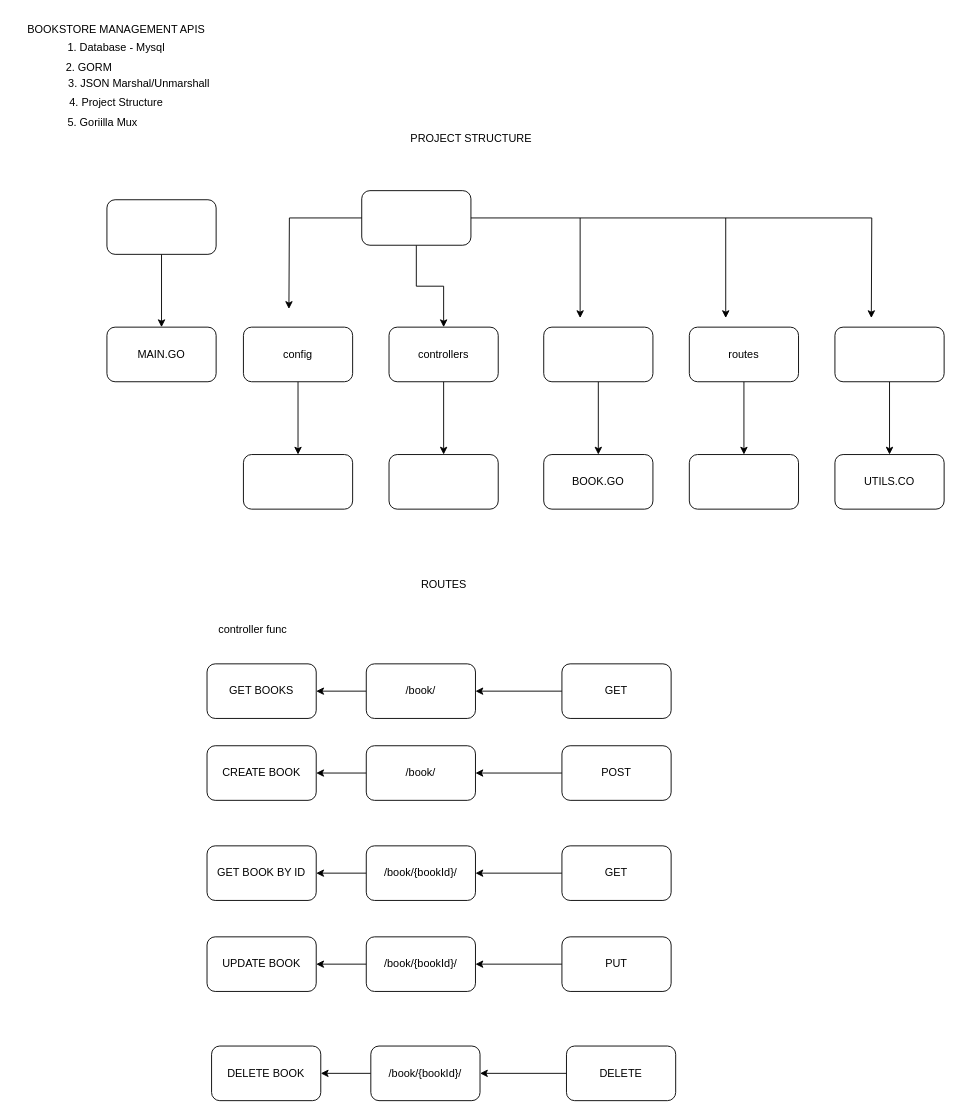
Image size: 960x1117. Some labels were removed from this diagram. The shapes that lost their labels are listed below. From the top down, each one's centre as x and y in pixels, then its label:
the point at 161,226: CMD
the point at 416,217: PKG
the point at 598,354: models
the point at 889,354: utils
the point at 298,481: APP.GO
the point at 443,481: BOOK CONTROLLER
the point at 743,481: BOOKSTORE ROUTES
